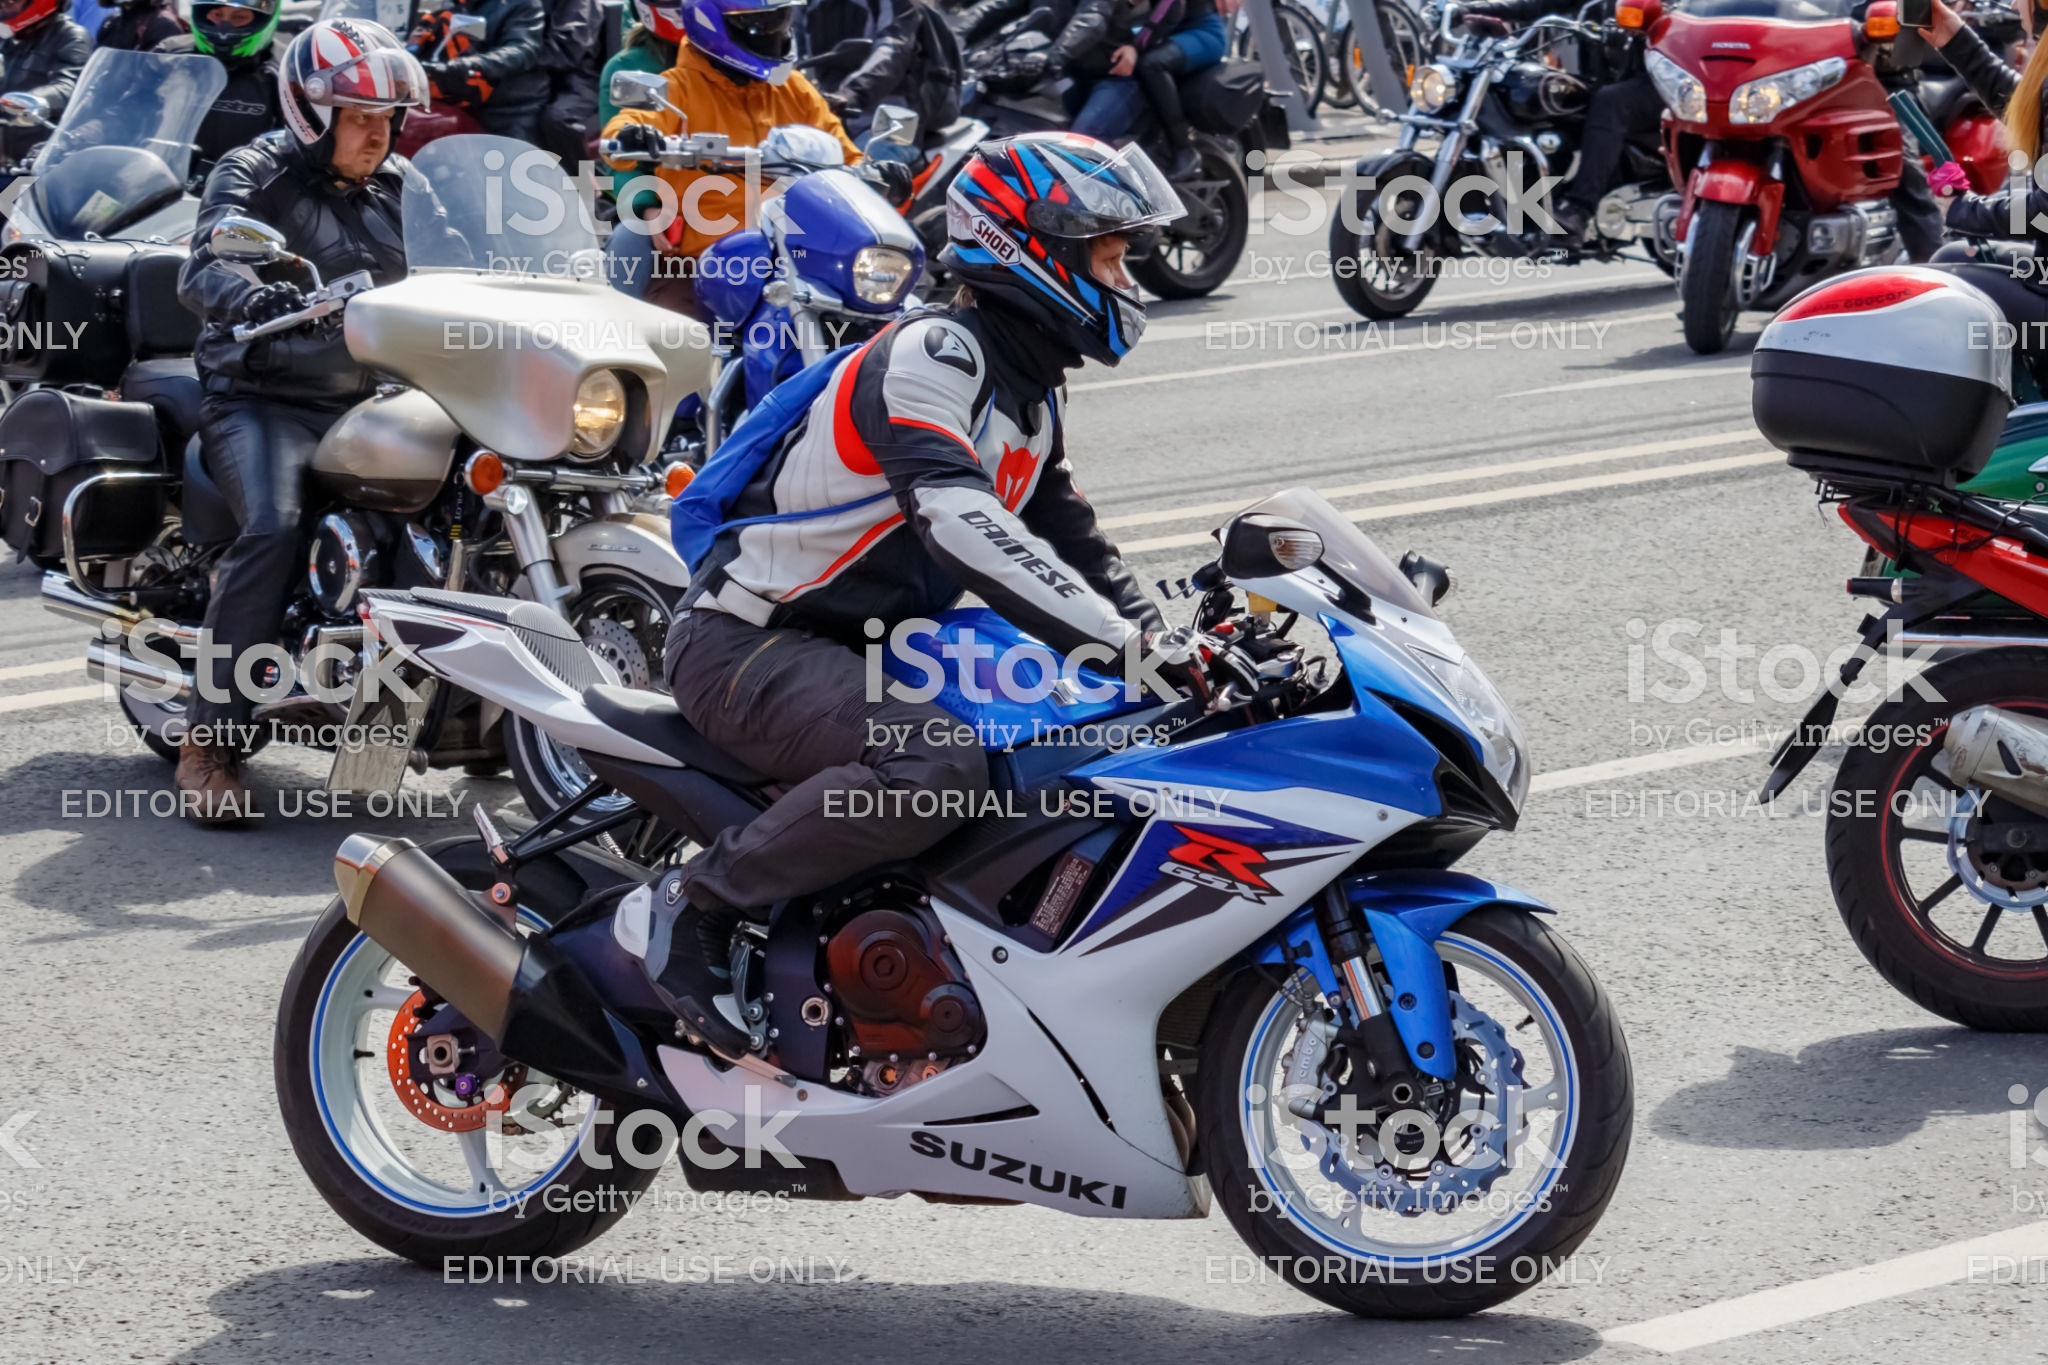helmet: (955, 131, 1177, 373), (271, 27, 435, 129)
